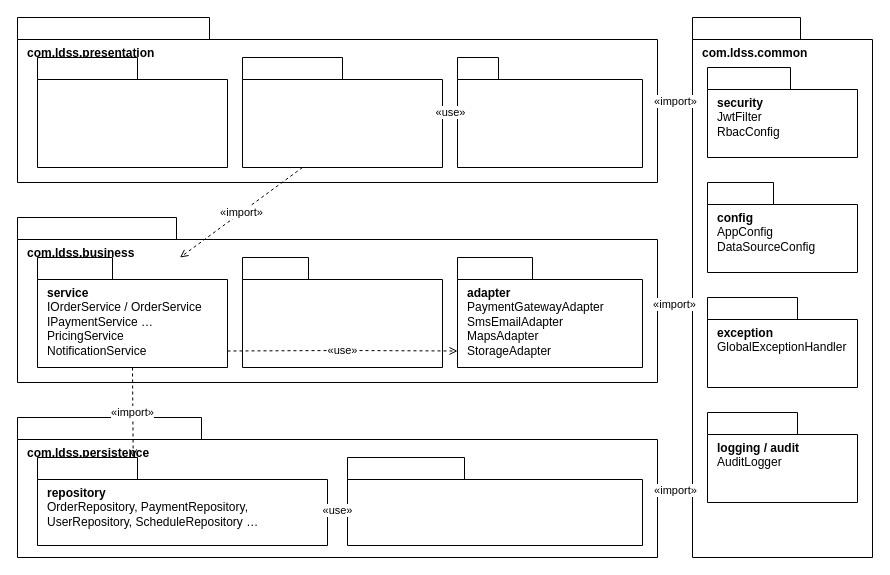
Some shapes in this 890 by 575 pixel diagram are drawn without their labels. The shapes that lost their labels are listed below. From the top down, each one's centre as x and y in pixels, then its label:
the point at 132,112: ui (React) CustomerPortal StaffPOSConsole RiderView ManagerDashboard
the point at 342,112: controller AuthController OrderController PaymentController ScheduleController …
the point at 549,112: dto OrderRequestDTO OrderResponseDTO PaymentInitDTO …
the point at 342,312: domain OrderStatus (state rules) PricingRule PromotionRule
the point at 494,501: entity (JPA) Order, OrderItem, Payment, User, Customer, Schedule …
